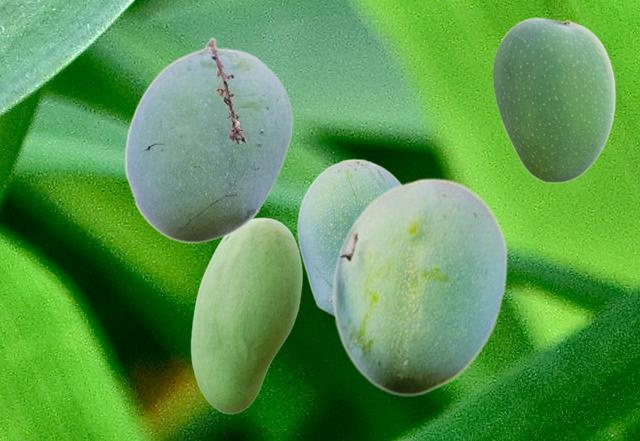green_mango: (331, 177, 507, 395), (124, 37, 292, 242), (190, 217, 301, 413), (492, 17, 615, 182), (296, 158, 401, 315)
